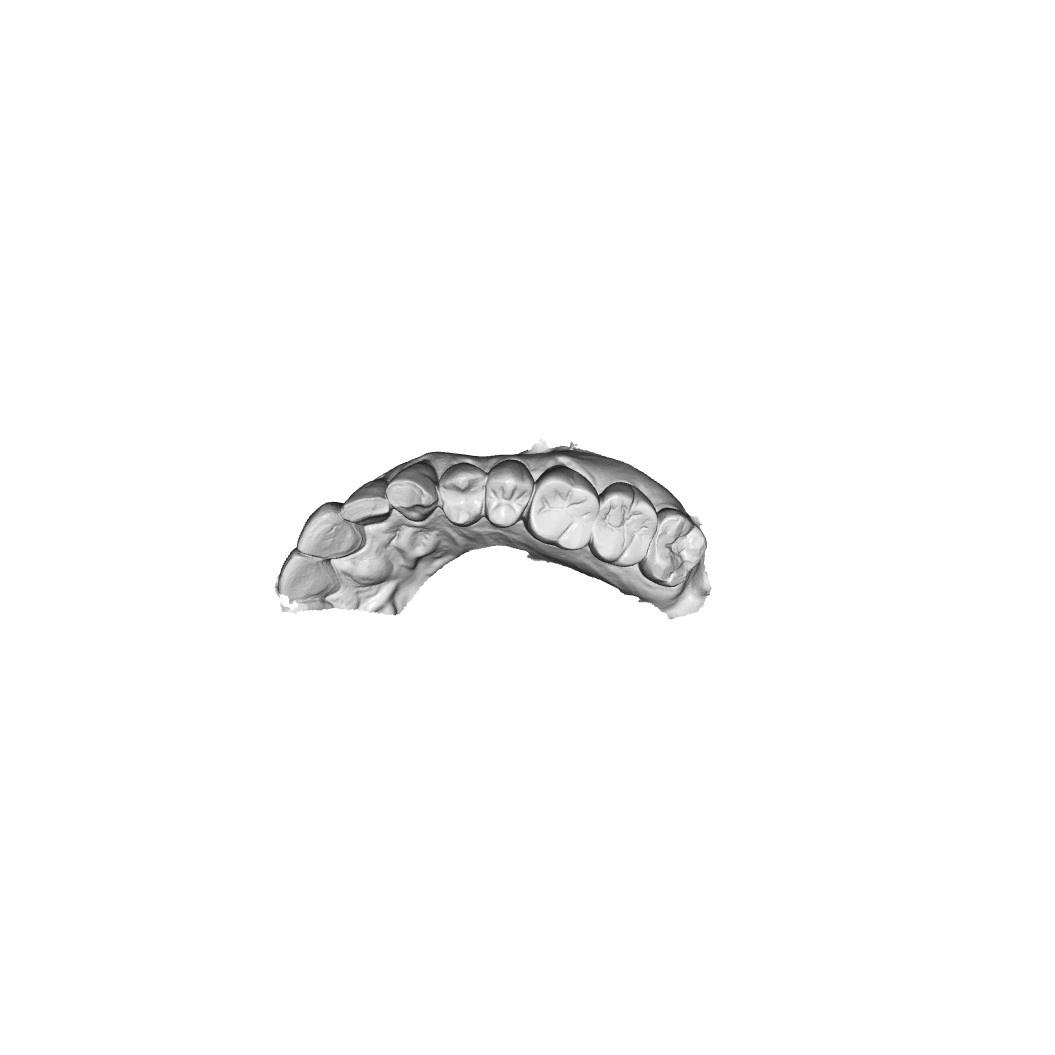canine: (391, 469, 436, 521)
incisor: (297, 506, 358, 558), (279, 554, 336, 598), (343, 485, 388, 520)
molar: (530, 467, 595, 543), (594, 488, 655, 563), (650, 511, 706, 584)
premolar: (486, 463, 530, 521), (442, 466, 482, 523)
